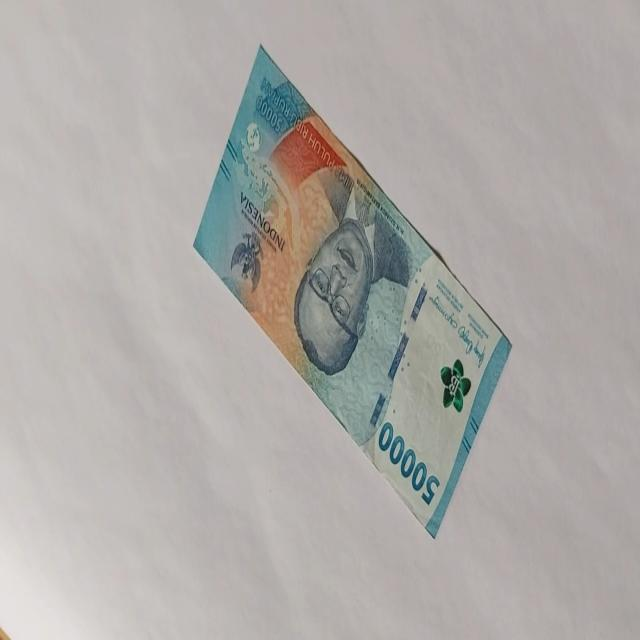lima puluh ribu rupiah: (192, 41, 512, 538), (378, 420, 440, 506)
